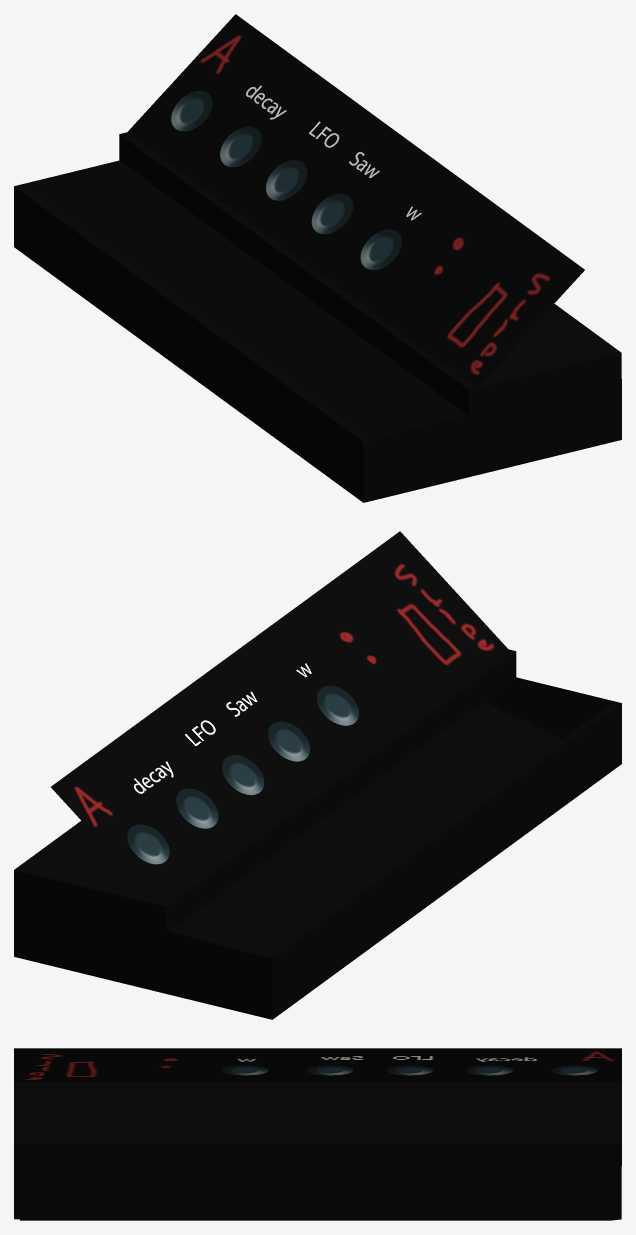
Rendered from keyboard without keys.fbx.
The picture shows the model from 3 angles, top to bottom: view 1: azimuth 30°, elevation 25°; view 2: azimuth 150°, elevation 25°; view 3: azimuth 270°, elevation 25°; orthographic projection. The views are drawn at different scales.
Parts seen in each view (by area): view 1: polySurface2; view 2: polySurface2; view 3: polySurface2.
Boxes of the visible parts, <box> form: polySurface2: <box>14,14,621,502</box>; polySurface2: <box>14,531,621,1019</box>; polySurface2: <box>14,1048,621,1220</box>.
Bounding box in the file's own units: 2.74 × 1.82 × 6.41.
1 material, 1 textured.
